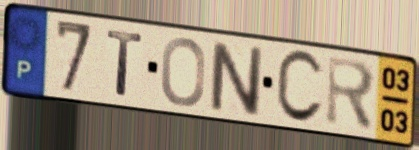7: (53, 17, 95, 95)
C: (273, 48, 326, 127)
N: (209, 38, 264, 119)
O: (159, 35, 208, 109)
R: (324, 53, 378, 134)
T: (105, 27, 146, 100)
